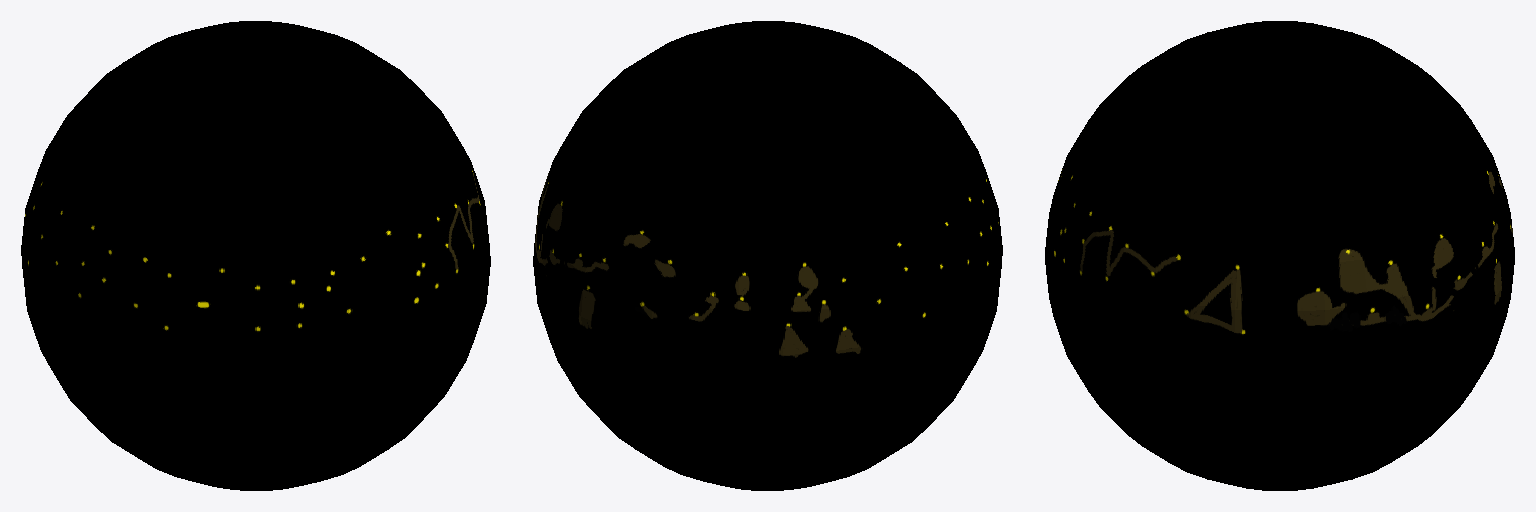
The picture shows the model from 3 angles: view 1: azimuth 30°, elevation 25°; view 2: azimuth 150°, elevation 25°; view 3: azimuth 270°, elevation 25°; orthographic projection.
Parts seen in each view (by area): view 1: 球.001; view 2: 球.001; view 3: 球.001.
Part boxes in pixels (x1,y1,x2,y2): 球.001: (21, 21, 490, 490); 球.001: (533, 21, 1002, 490); 球.001: (1045, 21, 1514, 490).
Size of the model in its own units: 64 by 64 by 64.
1 materials, 1 textured.